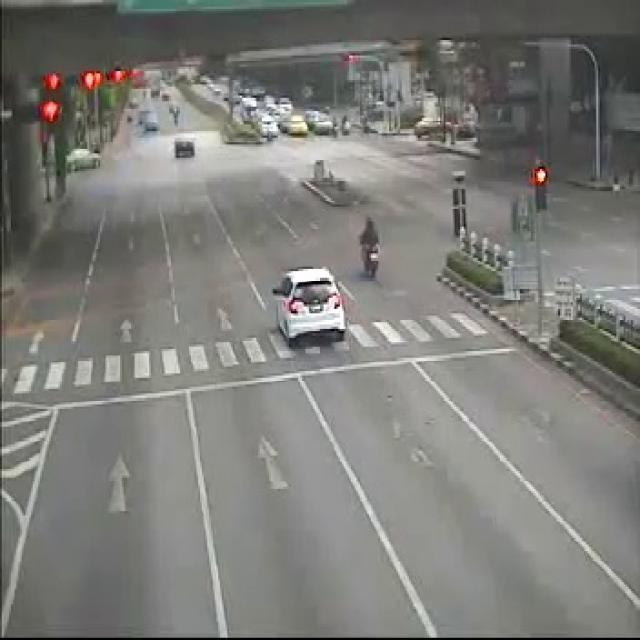car: (270, 267, 342, 344)
motobike: (357, 215, 378, 275)
red_light: (527, 160, 548, 208)
stop_line: (57, 347, 512, 407)
